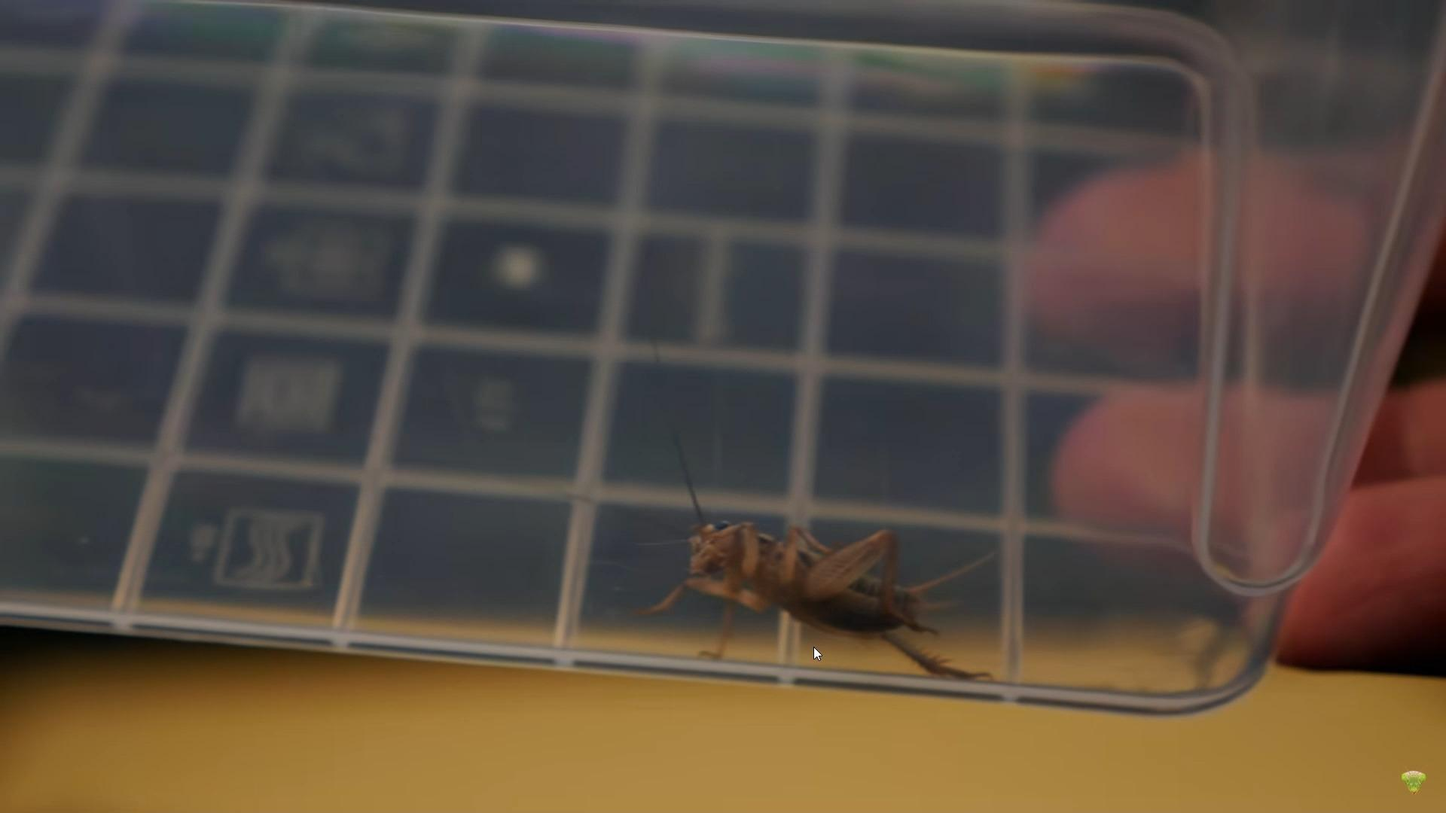cockroach: (660, 507, 995, 684)
